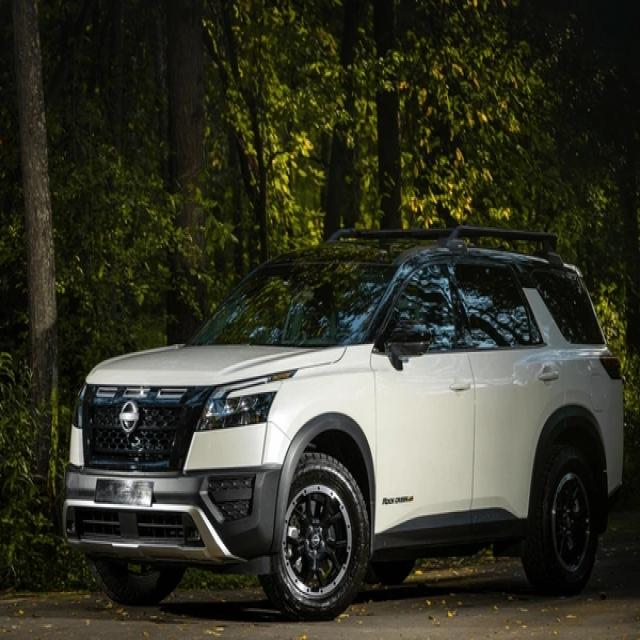nissan: (116, 401, 142, 434)
